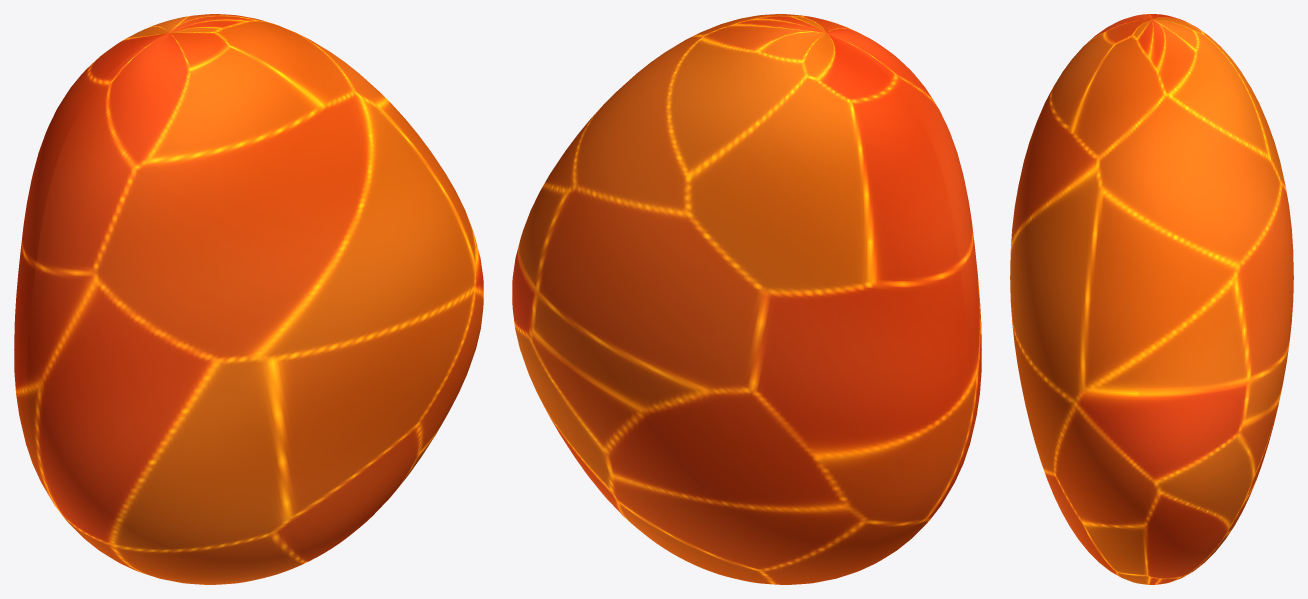
The model's file is fire_opal.glb.
The picture shows the model from 3 angles, left to right: view 1: azimuth 30°, elevation 25°; view 2: azimuth 150°, elevation 25°; view 3: azimuth 270°, elevation 25°; orthographic projection. The views are drawn at different scales.
Visible parts, largest first — view 1: Orange fire opal polished skin; view 2: Orange fire opal polished skin; view 3: Orange fire opal polished skin.
Part boxes in pixels (box(x1,y1,x2,y2)): Orange fire opal polished skin: box(14, 14, 483, 584); Orange fire opal polished skin: box(512, 14, 981, 584); Orange fire opal polished skin: box(1010, 14, 1293, 584).
Size of the model in its own units: 0.097 by 0.1168 by 0.0584.
1 material, 1 textured.
